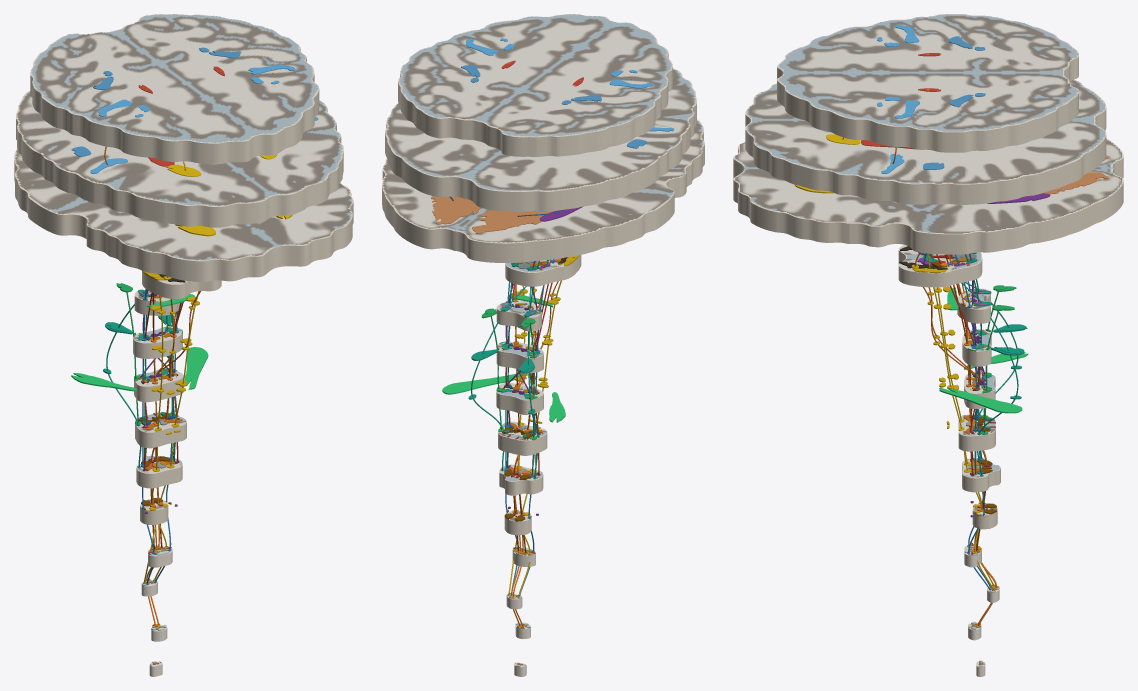
File: modelB.glb
3 views of the same model, side by side, from view 1: azimuth 30°, elevation 25°; view 2: azimuth 150°, elevation 25°; view 3: azimuth 270°, elevation 25° (orthographic). The views are drawn at different scales.
Parts seen in each view (by area): view 1: L15·切面（灰白质）, L14·切面（灰白质）, L13·切面（灰白质）, L13·背景·丘脑内囊, L14·背景·放射冠, L15·背景·皮质上部, L08·小脑中脚（脑桥臂）, L11·背景·下丘, L07·背景·橄榄中部, L09·背景·脑桥中部, L06·背景·丘系交叉, L08·背景·脑桥下部; view 2: L15·切面（灰白质）, L14·切面（灰白质）, L13·切面（灰白质）, L13·背景·丘脑内囊, L14·背景·放射冠, L15·背景·皮质上部, L11·背景·下丘, L13·距状沟周围视皮质左, L08·小脑中脚（脑桥臂）, L13·距状沟周围视皮质右, L07·背景·橄榄中部, L08·背景·脑桥下部 (+3 smaller); view 3: L15·切面（灰白质）, L14·切面（灰白质）, L13·切面（灰白质）, L13·背景·丘脑内囊, L14·背景·放射冠, L15·背景·皮质上部, L11·背景·下丘, L08·小脑中脚（脑桥臂）, L07·背景·橄榄中部, L06·背景·丘系交叉.
Part boxes in pixels (left/top/right/bottom): L15·切面（灰白质）: left=31, top=14, right=318, bottom=142; L14·切面（灰白质）: left=17, top=91, right=342, bottom=206; L13·切面（灰白质）: left=15, top=150, right=352, bottom=260; L13·背景·丘脑内囊: left=14, top=148, right=353, bottom=281; L14·背景·放射冠: left=16, top=91, right=343, bottom=227; L15·背景·皮质上部: left=30, top=14, right=319, bottom=164; L08·小脑中脚（脑桥臂）: left=71, top=347, right=208, bottom=391; L11·背景·下丘: left=142, top=271, right=221, bottom=299; L07·背景·橄榄中部: left=135, top=419, right=186, bottom=448; L09·背景·脑桥中部: left=133, top=329, right=182, bottom=358; L06·背景·丘系交叉: left=136, top=460, right=182, bottom=488; L08·背景·脑桥下部: left=134, top=373, right=183, bottom=402; L15·切面（灰白质）: left=399, top=14, right=671, bottom=136; L14·切面（灰白质）: left=385, top=68, right=695, bottom=191; L13·切面（灰白质）: left=383, top=121, right=703, bottom=242; L13·背景·丘脑内囊: left=382, top=119, right=704, bottom=263; L14·背景·放射冠: left=385, top=68, right=696, bottom=211; L15·背景·皮质上部: left=398, top=14, right=672, bottom=156; L11·背景·下丘: left=505, top=255, right=581, bottom=286; L13·距状沟周围视皮质左: left=472, top=210, right=554, bottom=233; L08·小脑中脚（脑桥臂）: left=442, top=373, right=565, bottom=422; L13·距状沟周围视皮质右: left=431, top=196, right=480, bottom=224; L07·背景·橄榄中部: left=498, top=423, right=547, bottom=455; L08·背景·脑桥下部: left=496, top=384, right=543, bottom=415; L15·切面（灰白质）: left=779, top=14, right=1078, bottom=131; L14·切面（灰白质）: left=747, top=80, right=1104, bottom=183; L13·切面（灰白质）: left=735, top=138, right=1121, bottom=233; L13·背景·丘脑内囊: left=733, top=139, right=1123, bottom=254; L14·背景·放射冠: left=745, top=79, right=1106, bottom=204; L15·背景·皮质上部: left=777, top=14, right=1078, bottom=152; L11·背景·下丘: left=898, top=245, right=982, bottom=287; L08·小脑中脚（脑桥臂）: left=939, top=352, right=1028, bottom=413; L07·背景·橄榄中部: left=958, top=420, right=995, bottom=451; L06·背景·丘系交叉: left=962, top=460, right=1000, bottom=492.
Bounding box in the file's own units: 13.92 × 29.79 × 17.47.
